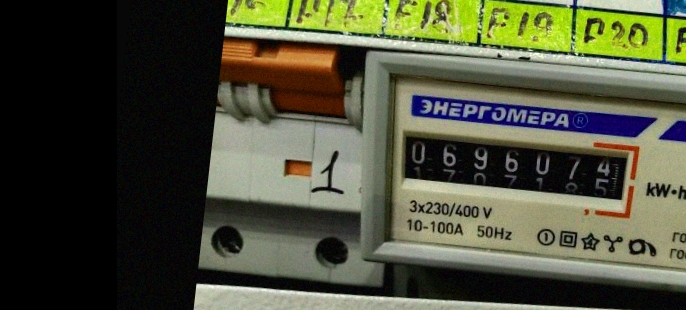0: (408, 137, 429, 164), (534, 148, 553, 176)
4: (596, 154, 612, 176)
5: (594, 176, 610, 196)
6: (439, 139, 460, 166), (503, 145, 522, 173)
7: (565, 152, 583, 180)
9: (471, 143, 491, 171)
screen: (391, 116, 644, 219)
